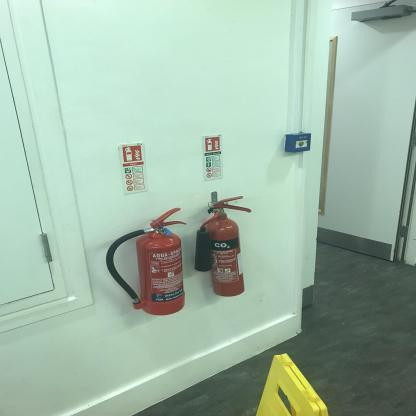Fire Extinguisher: (99, 201, 183, 330), (194, 188, 269, 304)
